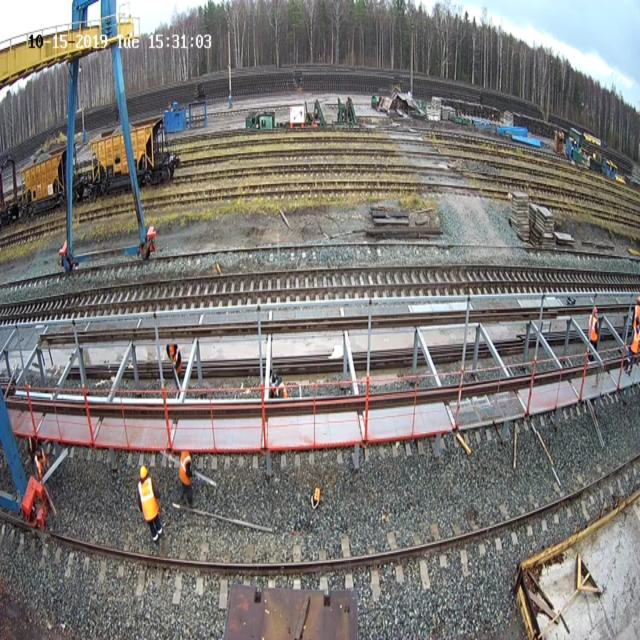Helmet: (139, 465, 148, 479)
Person: (137, 464, 163, 542), (628, 292, 640, 370), (166, 343, 183, 398), (179, 450, 193, 506), (587, 306, 599, 361), (58, 240, 72, 272)
